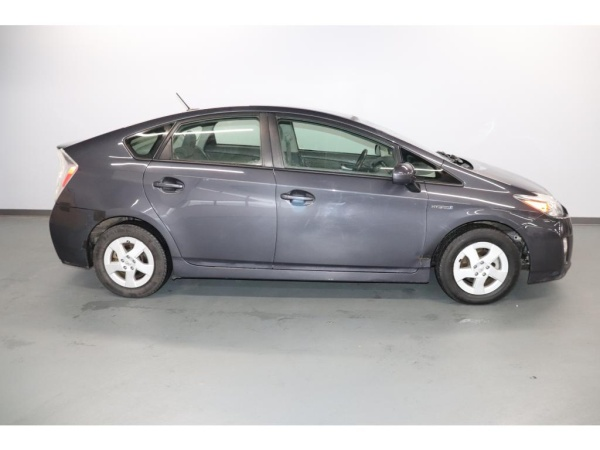Toyota Prius: (46, 103, 575, 308)
